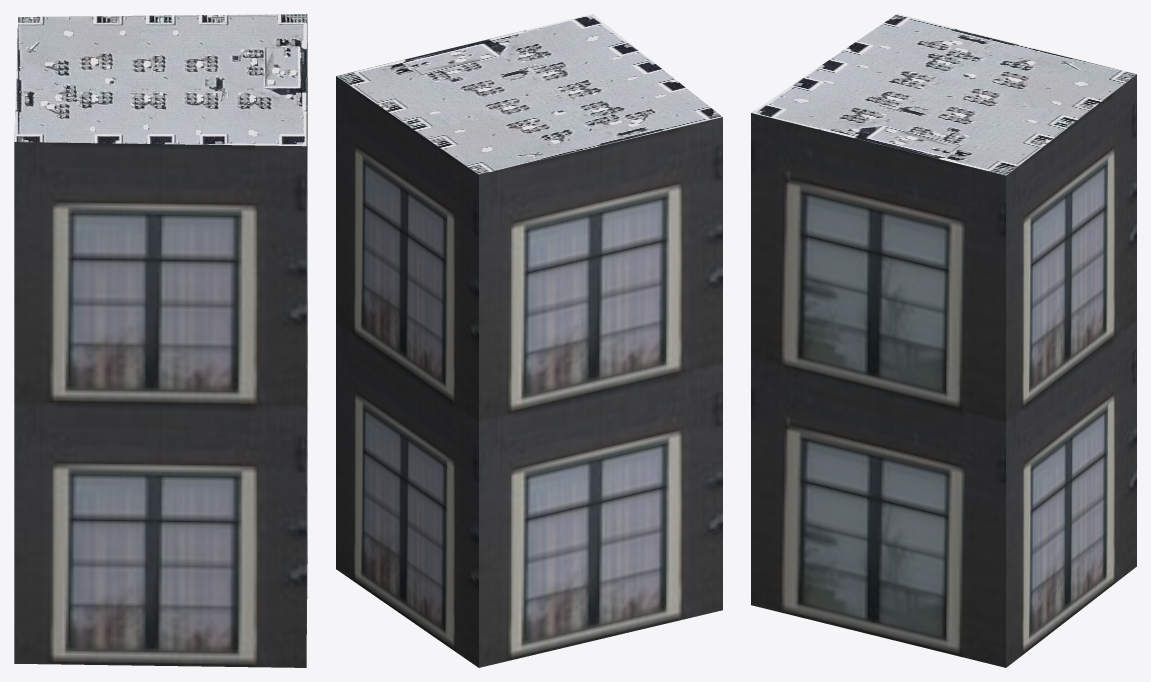
Rendered from ResTex__3451.fbx.
3 renders of one model, left to right at view 1: azimuth 30°, elevation 25°; view 2: azimuth 150°, elevation 25°; view 3: azimuth 270°, elevation 25°, orthographic. The views are drawn at different scales.
Parts seen in each view (by area): view 1: CityEngineMaterial_22_m, CityEngineMaterial_4_m; view 2: CityEngineMaterial_22_m, CityEngineMaterial_4_m; view 3: CityEngineMaterial_22_m, CityEngineMaterial_4_m.
Boxes of the visible parts, x1,y1,x2,y2 form: CityEngineMaterial_22_m: [14, 43, 307, 667]; CityEngineMaterial_4_m: [14, 14, 307, 146]; CityEngineMaterial_22_m: [336, 76, 722, 667]; CityEngineMaterial_4_m: [336, 14, 722, 174]; CityEngineMaterial_22_m: [751, 74, 1136, 667]; CityEngineMaterial_4_m: [751, 14, 1136, 175].
Bounding box in the file's own units: 4.23 × 6 × 4.26.
Materials: 2 (2 with a texture image).
